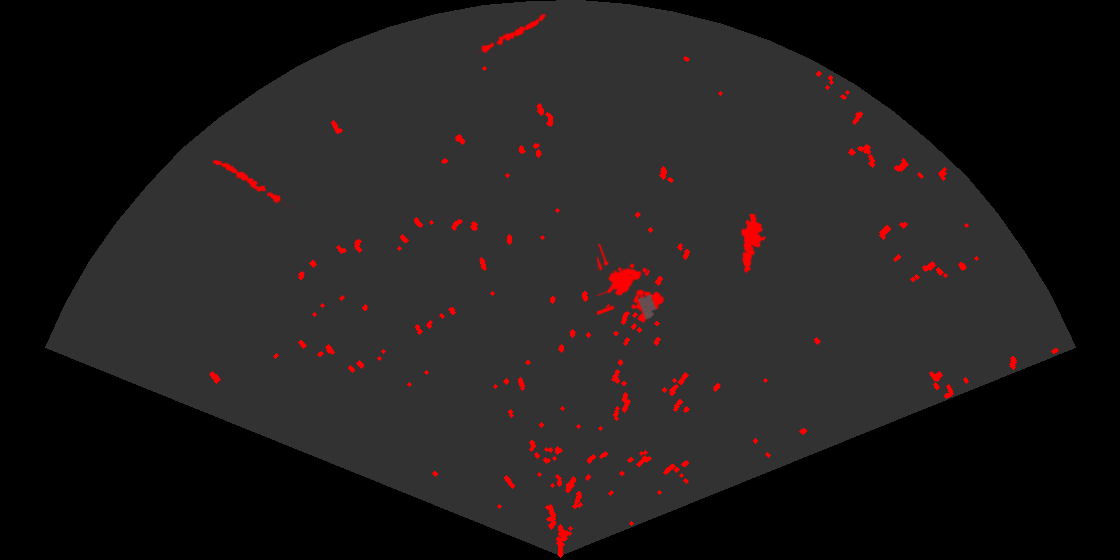cage: (597, 244, 666, 325)
chain: (211, 158, 290, 209), (477, 9, 556, 55)
frogman: (739, 214, 768, 275)
